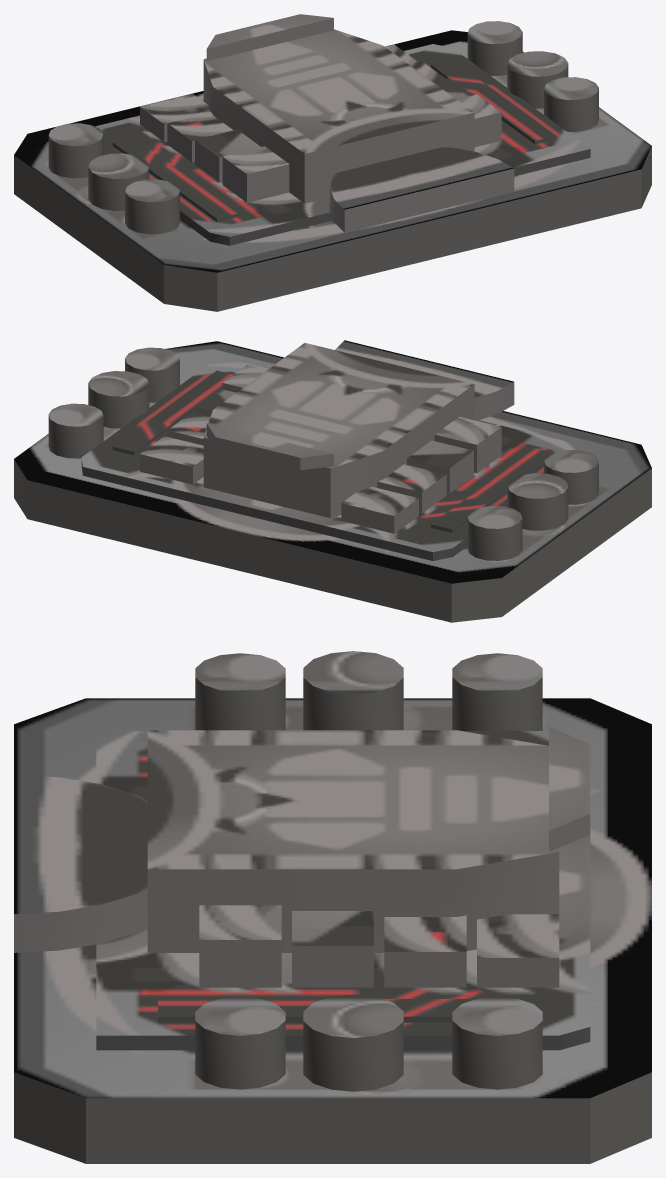
Rendered from Building_SubcoreRipscanner.obj.
3 renders of one model, top to bottom at view 1: azimuth 30°, elevation 25°; view 2: azimuth 150°, elevation 25°; view 3: azimuth 270°, elevation 25°, orthographic. The views are drawn at different scales.
Visible parts, largest first — view 1: Body; view 2: Body; view 3: Body.
Boxes of the visible parts, left/top/right/bottom form: Body: left=14, top=14, right=651, bottom=311; Body: left=14, top=340, right=651, bottom=622; Body: left=14, top=651, right=651, bottom=1163.
Size of the model in its own units: 2.88 by 0.62 by 1.94.
Materials: 1 (1 with a texture image).
